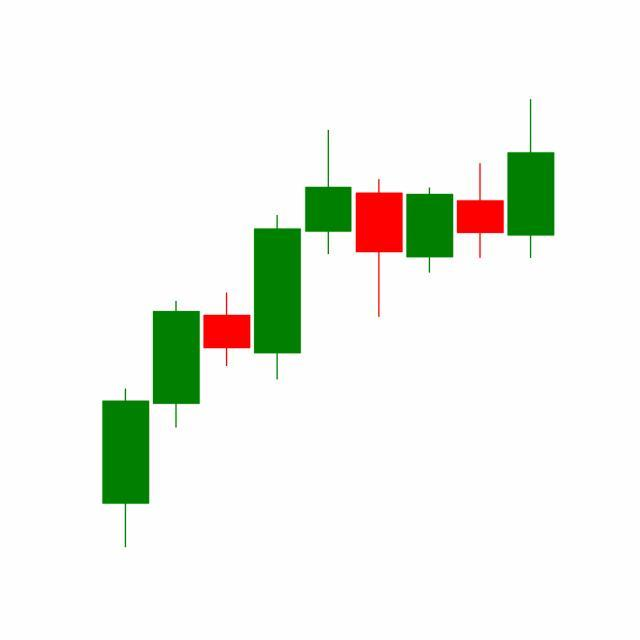Hikkake Pattern: (252, 128, 506, 384)
